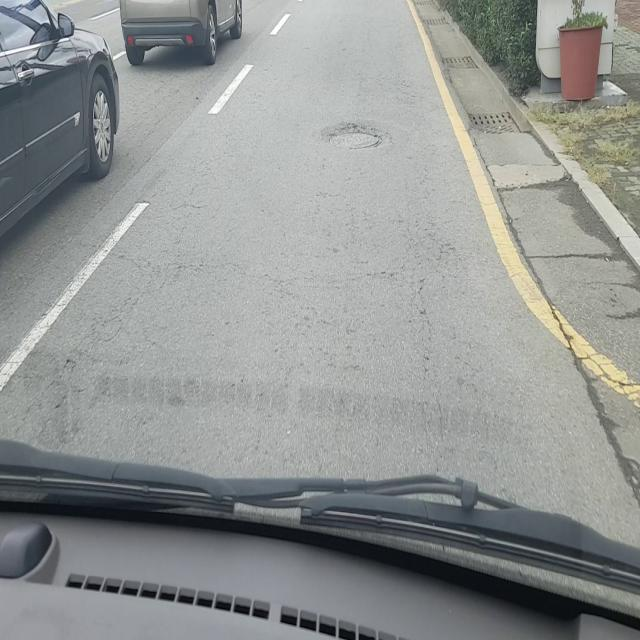Pothole: (324, 122, 389, 151)
